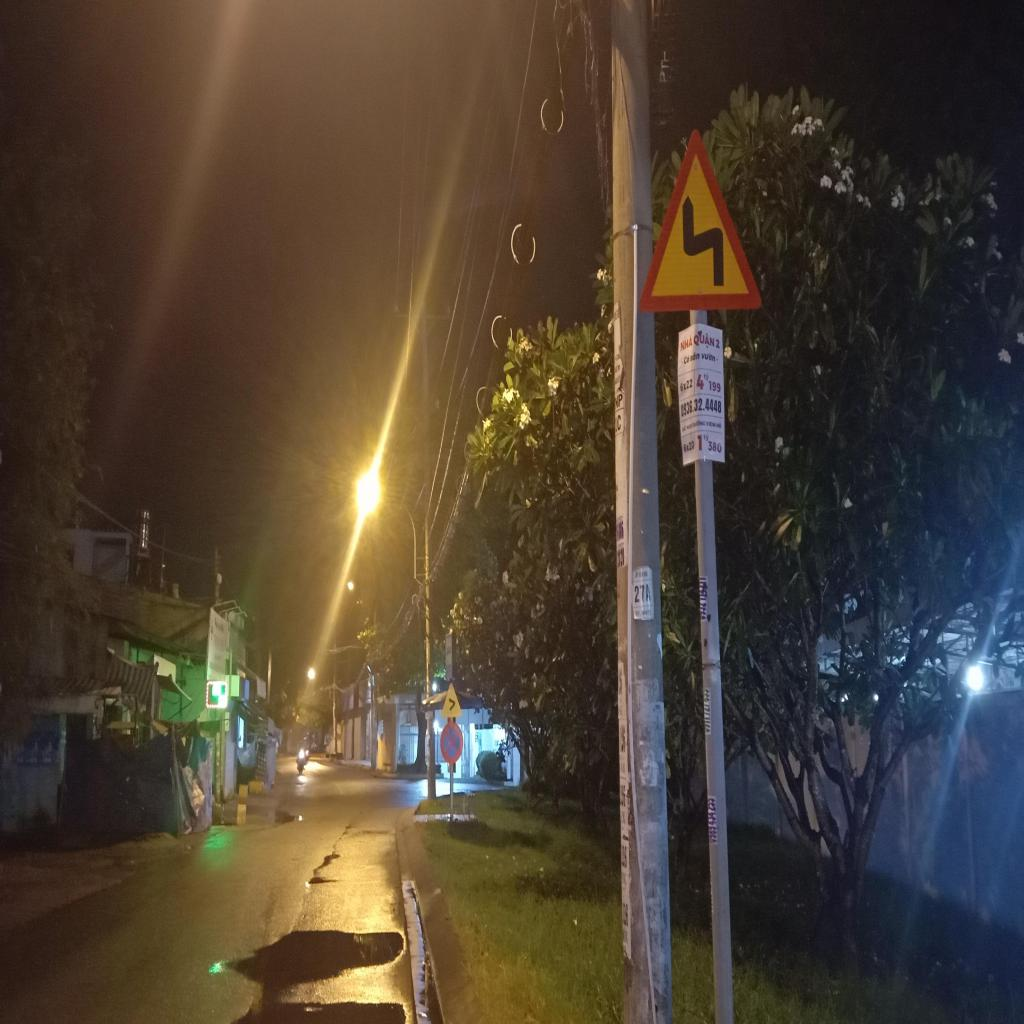cam_dung_xe_va_do_xe: (441, 721, 463, 765)
cho_ngoat_nguy_hiem_ben_trai: (441, 681, 462, 717)
cho_ngoat_nguy_hiem_lien_tiep: (639, 123, 762, 313)
